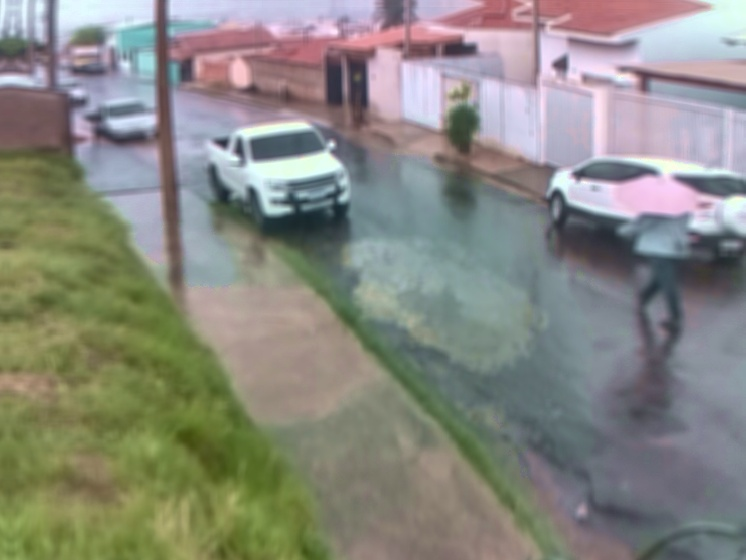person: (614, 209, 696, 333)
